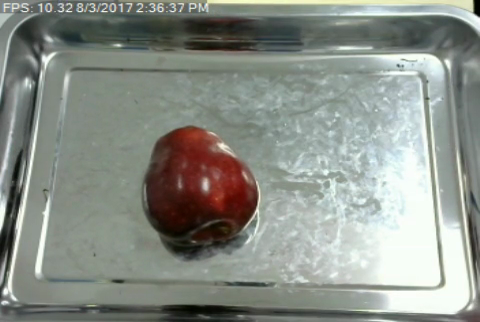Apple: (136, 122, 263, 245)
